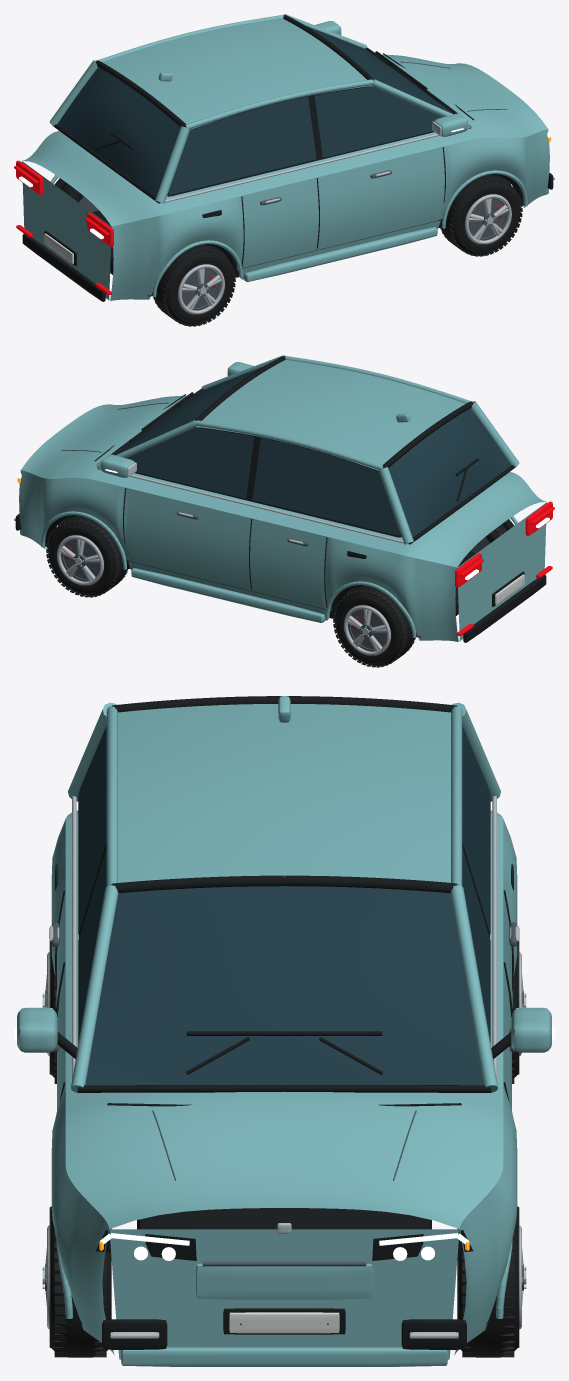
File: city-ev.glb
3 views of the same model, one above another, from view 1: azimuth 30°, elevation 25°; view 2: azimuth 150°, elevation 25°; view 3: azimuth 270°, elevation 25° (orthographic). The views are drawn at different scales.
Visible parts, largest first — view 1: Paint / body colour, Smoked automotive glass, Satin black trim, Tyre rubber, Satin aluminium, Tyre tread edges, Graphite alloy, Rear light lenses, Panel gaps; view 2: Paint / body colour, Smoked automotive glass, Satin black trim, Tyre rubber, Satin aluminium, Tyre tread edges, Graphite alloy, Rear light lenses, Panel gaps; view 3: Paint / body colour, Smoked automotive glass, Satin black trim, Tyre rubber, Satin aluminium, Tyre tread edges, Plain number plates, Graphite alloy, LED daylight, Panel gaps.
Boxes of the visible parts, x1,y1,x2,y2 form: Paint / body colour: (22,14,549,300); Smoked automotive glass: (57,26,453,196); Satin black trim: (22,14,553,301); Tyre rubber: (62,174,520,324); Satin aluminium: (162,127,554,314); Tyre tread edges: (66,176,522,326); Graphite alloy: (46,61,507,310); Rear light lenses: (14,160,113,295); Panel gaps: (202,53,474,268); Paint / body colour: (19,355,546,641); Smoked automotive glass: (115,367,511,537); Satin black trim: (15,355,546,642); Tyre rubber: (48,515,506,665); Satin aluminium: (14,468,406,655); Tyre tread edges: (46,517,502,667); Graphite alloy: (61,402,522,651); Rear light lenses: (455,501,554,636); Panel gaps: (94,394,366,609); Paint / body colour: (17,696,551,1366); Smoked automotive glass: (78,726,490,1085); Satin black trim: (57,696,511,1349); Tyre rubber: (51,942,517,1357); Satin aluminium: (42,796,526,1338); Tyre tread edges: (49,940,519,1357); Plain number plates: (229,1312,339,1333); Graphite alloy: (45,922,523,1325); LED daylight: (14,1027,554,1260); Panel gaps: (55,864,513,1106).
Size of the model in its own units: 3.77 by 1.62 by 1.99.
